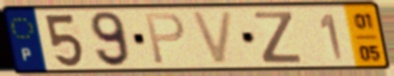1: (318, 12, 345, 62)
5: (42, 12, 87, 69)
9: (89, 10, 132, 69)
P: (143, 11, 187, 67)
V: (188, 8, 237, 67)
Z: (252, 10, 304, 65)
